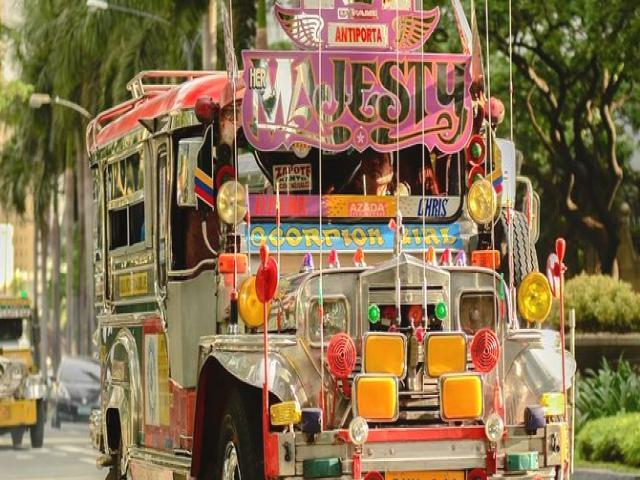jeepney: (81, 39, 571, 480)
